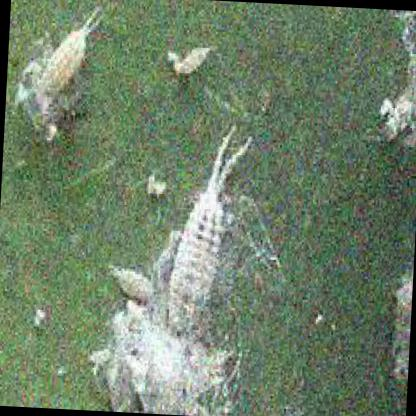mealy bug: (167, 127, 250, 337), (36, 9, 105, 101)
